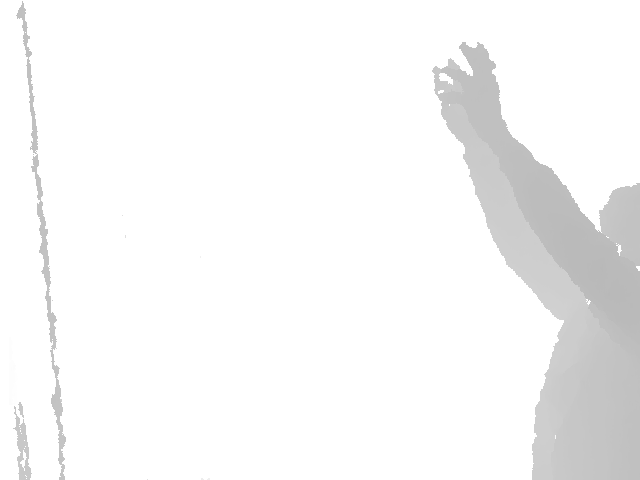hand: (444, 41, 508, 131), (432, 65, 491, 143)
person: (432, 41, 640, 480)
